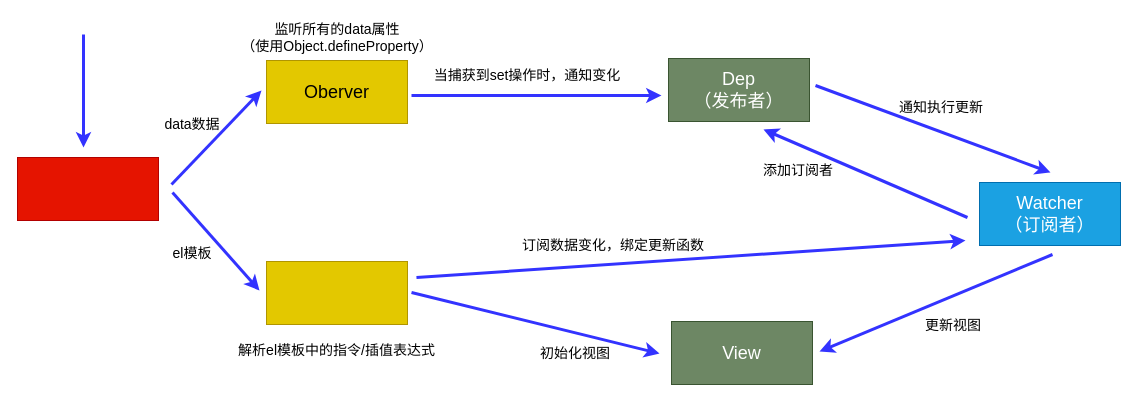
The diagram is 1138 pixels wide and 402 high, and some of its shapes have lost their labels. The centre of each missing label's shape, as x and y in pixels:
"Compliler" belongs at (337,292).
"new Vue()" belongs at (87,188).
